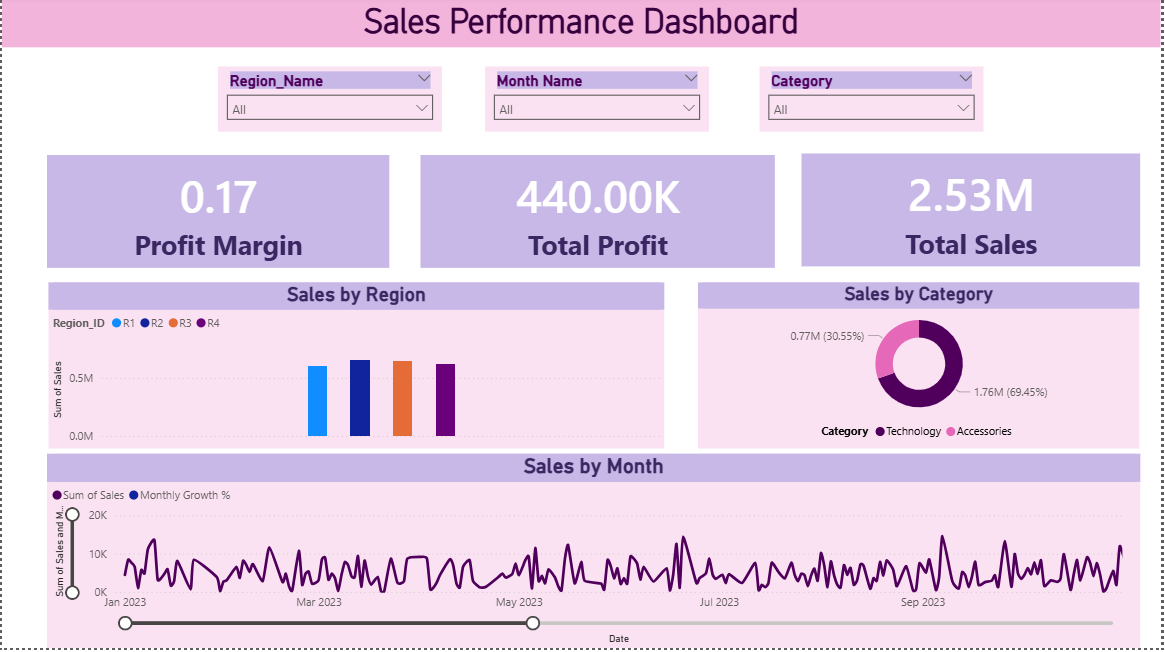

The page's visual inventory and layout, read from the dashboard file:
{"tool":"powerbi","page":{"name":"Sales dashboard","canvas":[1280,720],"ordinal":0},"visuals":[{"type":"card","fields":{"Values":["Fact_Sales.Total Sales"]},"box":[882.2,174.7,374.2,124.7],"z":0},{"type":"card","fields":{"Values":["Fact_Sales.Total Profit"]},"box":[462,175.3,391.2,124.7],"z":1000},{"type":"card","fields":{"Values":["Fact_Sales.Profit Margin"]},"box":[50,175.3,378,124.7],"z":2000},{"type":"lineChart","title":"Sales by Month","fields":{"Y":["Sum(Fact_Sales.Sales)","Fact_Sales.Monthly Growth"],"Category":["Fact_Sales.Date"]},"box":[49.1,504.6,1207.6,215.4],"z":3000},{"type":"clusteredColumnChart","title":"Sales by Region","fields":{"Y":["Sum(Fact_Sales.Sales)"],"Series":["Dim_Region.Region_ID"]},"box":[51,315.6,680.3,183.3],"z":4000},{"type":"donutChart","title":"Sales by Category","fields":{"Y":["Sum(Fact_Sales.Sales)"],"Category":["Dim_Product.Category"]},"box":[769.1,315.6,487.6,183.3],"z":5000},{"type":"textbox","box":[0,0,1279.4,56.7],"z":6000},{"type":"slicer","fields":{"Values":["Dim_Product.Category"]},"box":[837.2,77.9,247.6,71.8],"z":7000},{"type":"slicer","fields":{"Values":["Dim_Date.Month Name"]},"box":[532.9,77.9,247.6,71.8],"z":8000},{"type":"slicer","fields":{"Values":["Dim_Region.Region_Name"]},"box":[238.1,77.9,247.6,71.8],"z":9000}]}

Visuals, with their boxes in screenshot pixels (x1, y1, x2, y2), scaled from the page's 1280x720 canvas onto the 1165x652 screenshot:
card - Fact_Sales.Total Sales: box=[803, 158, 1144, 271]
card - Fact_Sales.Total Profit: box=[420, 159, 777, 272]
card - Fact_Sales.Profit Margin: box=[46, 159, 390, 272]
"Sales by Month" lineChart: box=[45, 457, 1144, 651]
"Sales by Region" clusteredColumnChart: box=[46, 286, 666, 452]
"Sales by Category" donutChart: box=[700, 286, 1144, 452]
textbox: box=[0, 0, 1164, 51]
slicer - Dim_Product.Category: box=[762, 71, 987, 136]
slicer - Dim_Date.Month Name: box=[485, 71, 710, 136]
slicer - Dim_Region.Region_Name: box=[217, 71, 442, 136]
